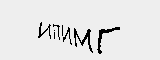Г: (97, 25, 122, 57)
И: (36, 21, 51, 41), (60, 25, 73, 47)
М: (73, 28, 93, 51)
П: (49, 23, 61, 44)
